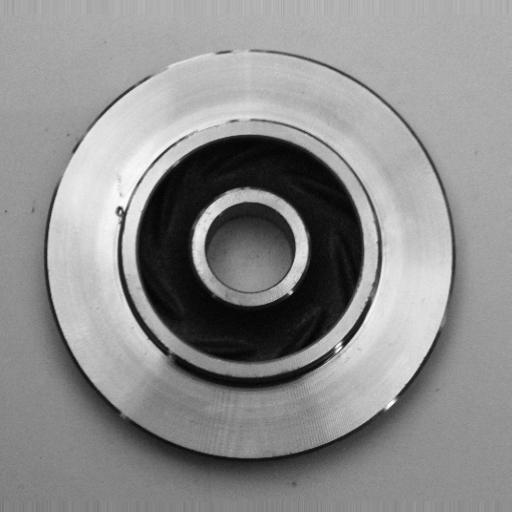crack: (112, 191, 129, 233)
scratch: (173, 114, 264, 147), (155, 41, 229, 78), (324, 326, 356, 365)
unpolished_casting: (42, 45, 458, 465)
